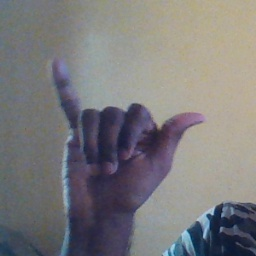J: (46, 56, 206, 213)
